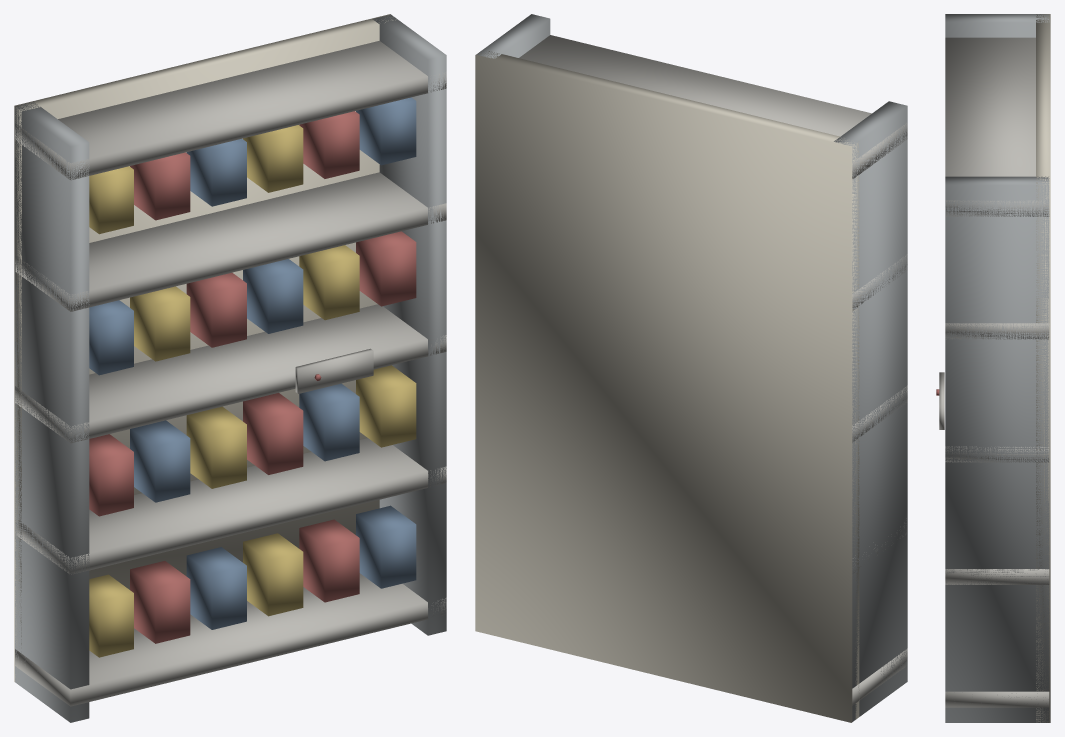
Rendered from pharmacy_shelf__compact.glb.
3 renders of one model, left to right at view 1: azimuth 30°, elevation 25°; view 2: azimuth 150°, elevation 25°; view 3: azimuth 270°, elevation 25°, orthographic. The views are drawn at different scales.
Parts seen in each view (by area): view 1: world; view 2: world; view 3: world.
Part boxes in pixels (left/top/right/bottom): world: left=14, top=14, right=446, bottom=722; world: left=475, top=14, right=907, bottom=722; world: left=936, top=14, right=1050, bottom=722.
Size of the model in its own units: 1.18 by 1.72 by 0.332.
